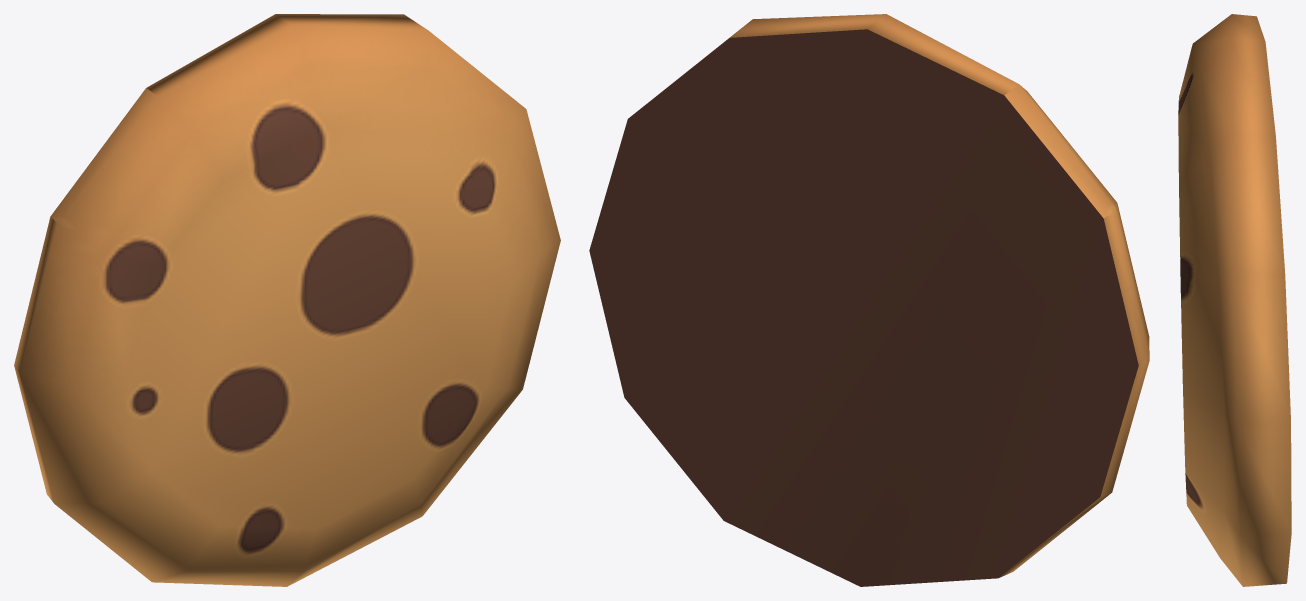
The model's file is brown_cookie.glb.
3 views of the same model, side by side, from view 1: azimuth 30°, elevation 25°; view 2: azimuth 150°, elevation 25°; view 3: azimuth 270°, elevation 25° (orthographic). The views are drawn at different scales.
Visible parts, largest first — view 1: Brown_Cookie; view 2: Brown_Cookie; view 3: Brown_Cookie.
Boxes of the visible parts, box(x1,y1,x2,y2) form: Brown_Cookie: box(14, 14, 560, 586); Brown_Cookie: box(589, 14, 1149, 586); Brown_Cookie: box(1178, 14, 1291, 586).
Size of the model in its own units: 0.5192 by 0.519 by 0.1023.
Materials: 1 (1 with a texture image).
